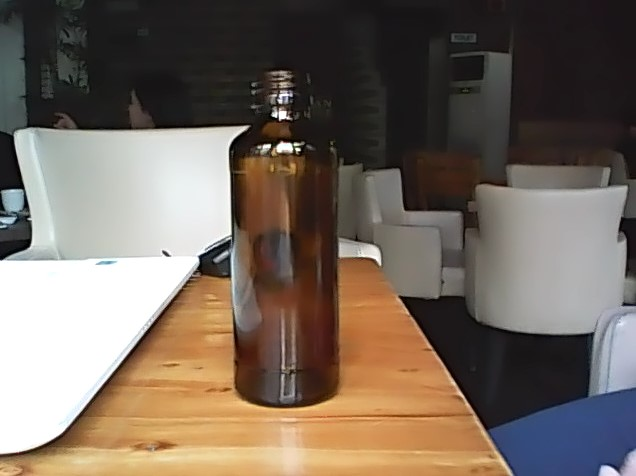Glass: (224, 64, 347, 416)
